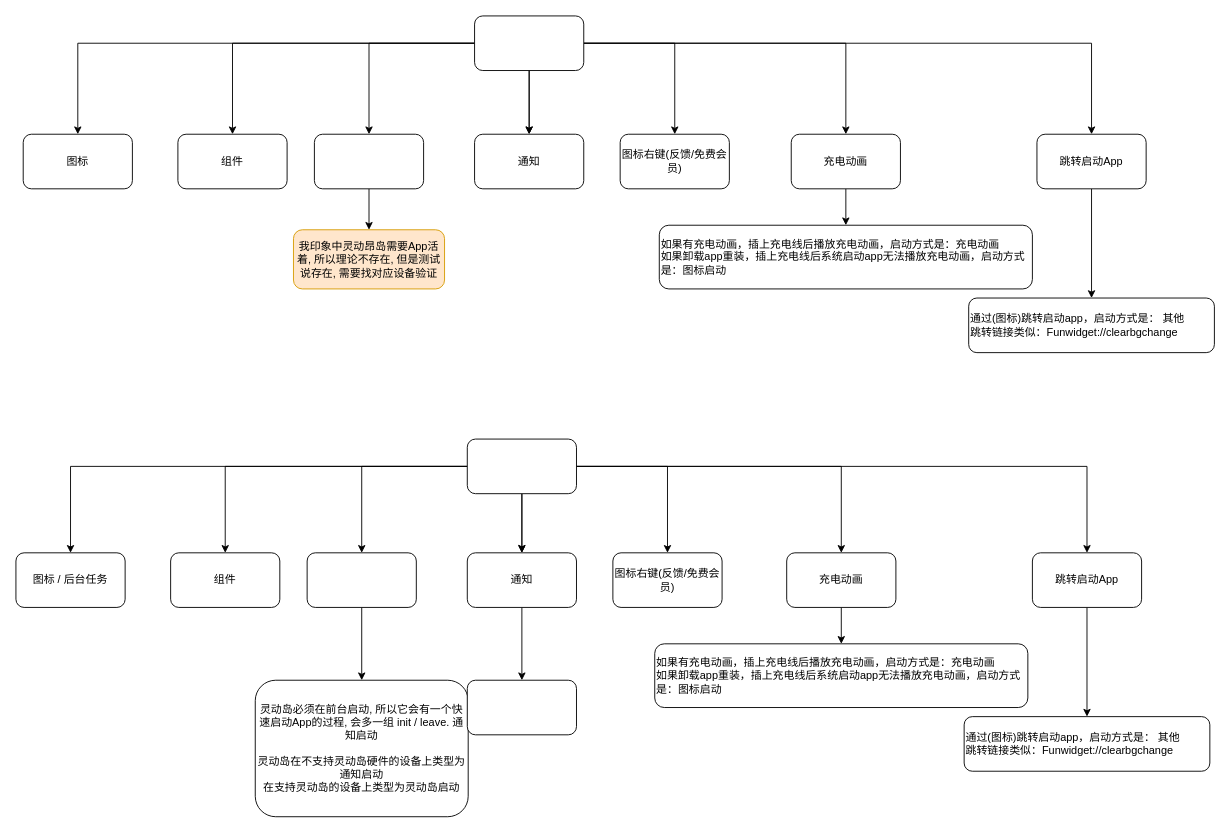
Image size: 1230x833. Some labels were removed from this diagram. Each missing label, with the box of its shape:
冷启动: (474, 15, 584, 71)
图标启动: (466, 679, 576, 735)
灵动岛: (306, 552, 416, 607)
灵动岛(不存在): (313, 133, 424, 189)
热启动: (466, 438, 576, 494)
